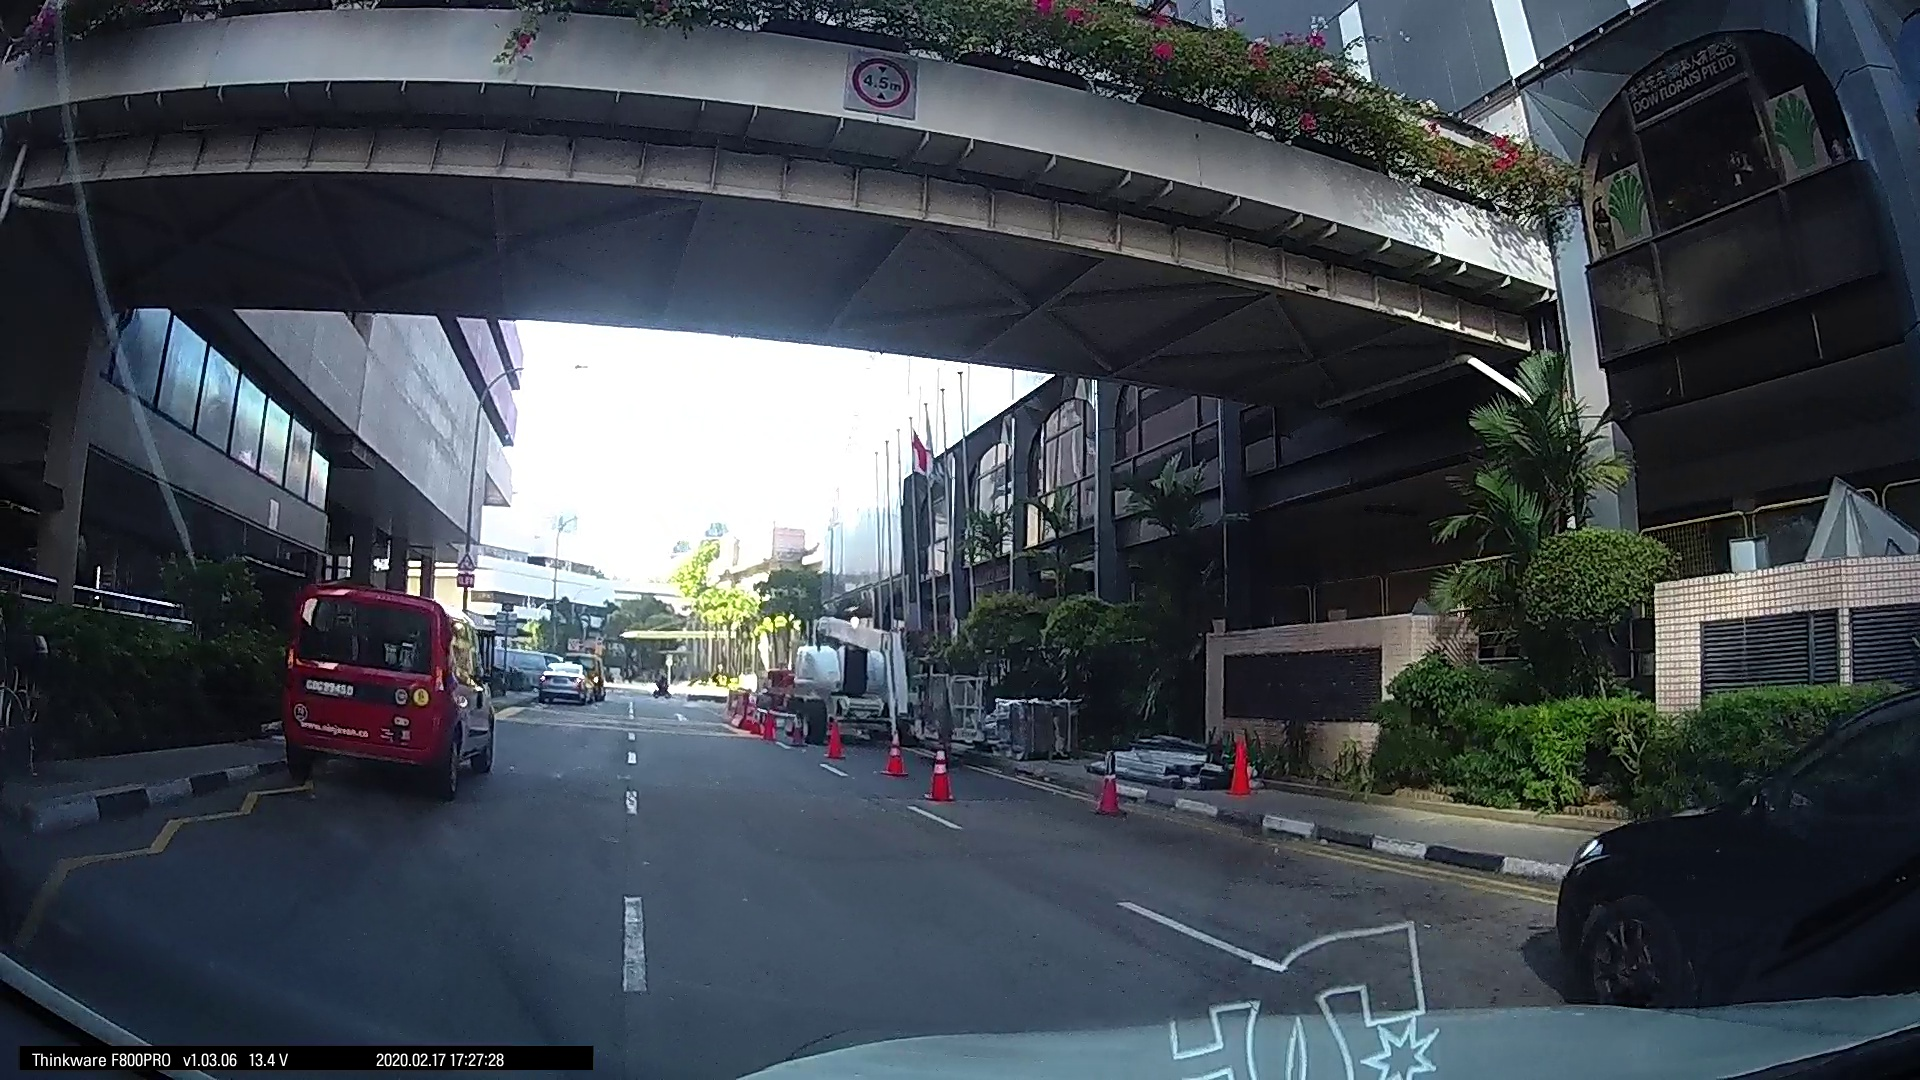Light Vehicle: (1, 502, 676, 1004), (618, 640, 777, 831), (1369, 665, 1539, 789), (1770, 708, 1913, 818), (733, 636, 840, 767), (837, 617, 928, 704), (1108, 647, 1168, 699), (992, 649, 1042, 691)
